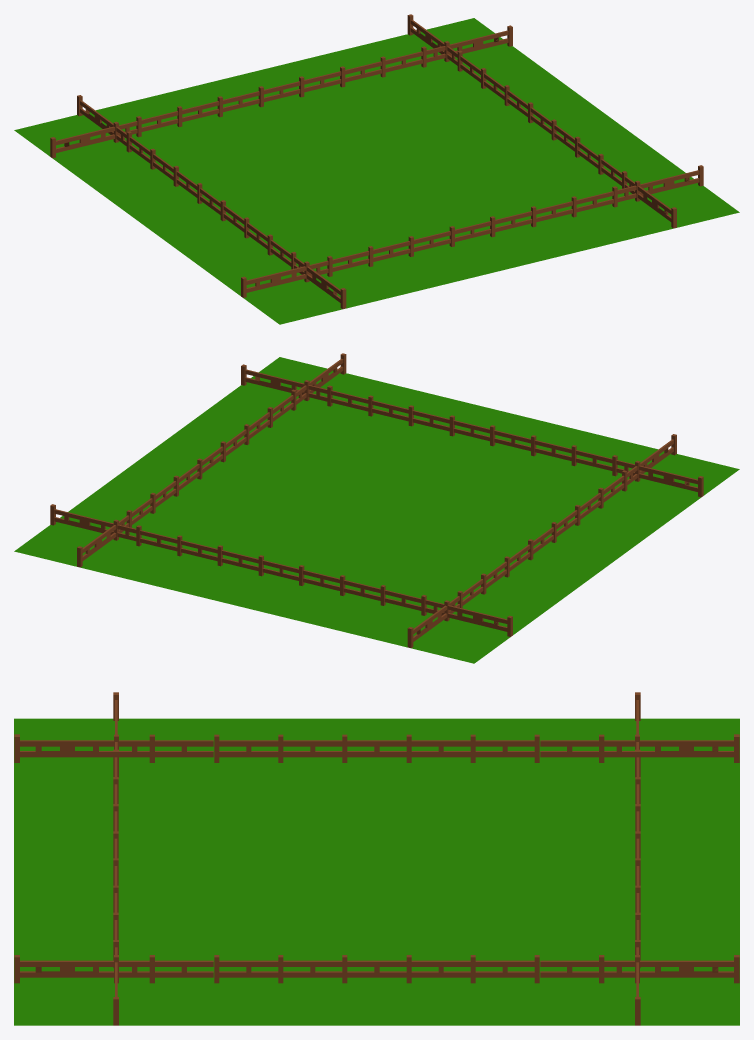
File: EscenarioJuego.fbx
3 renders of one model, top to bottom at view 1: azimuth 30°, elevation 25°; view 2: azimuth 150°, elevation 25°; view 3: azimuth 270°, elevation 25°, orthographic. The views are drawn at different scales.
Parts seen in each view (by area): view 1: Ground, fenceCut.001; view 2: Ground, fenceCut.001; view 3: Ground, fenceCut.001.
Part boxes in pixels (x1,y1,x2,y2): Ground: (14,18,739,324); fenceCut.001: (50,14,703,309); Ground: (14,357,739,663); fenceCut.001: (50,353,703,648); Ground: (14,718,739,1025); fenceCut.001: (14,692,739,1025).
Size of the model in its own units: 2401 by 95.5 by 2400.
